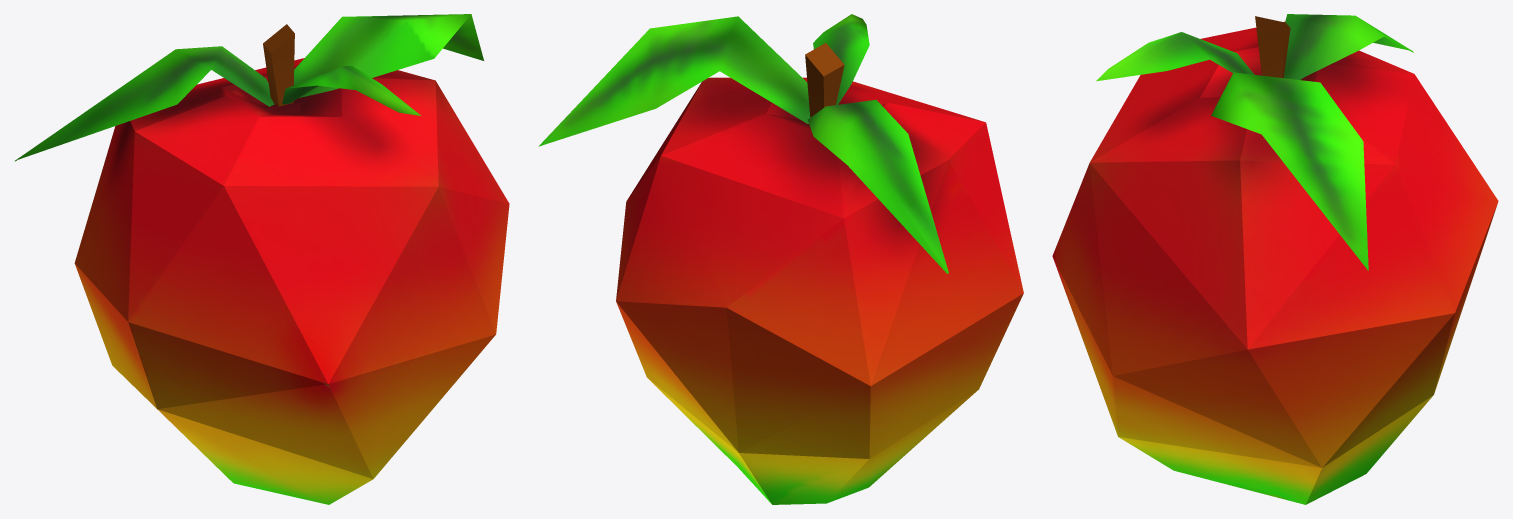
Rendered from cb_Wumpa.obj.
3 renders of one model, left to right at view 1: azimuth 30°, elevation 25°; view 2: azimuth 150°, elevation 25°; view 3: azimuth 270°, elevation 25°, orthographic. The views are drawn at different scales.
Parts seen in each view (by area): view 1: Plane.005_Fruit, Plane.005_Leaf, Plane.005_Brown; view 2: Plane.005_Fruit, Plane.005_Leaf, Plane.005_Brown; view 3: Plane.005_Fruit, Plane.005_Leaf, Plane.005_Brown.
Part boxes in pixels (box(x1,y1,x2,y2)): Plane.005_Fruit: box(74, 58, 509, 504); Plane.005_Leaf: box(15, 14, 483, 161); Plane.005_Brown: box(263, 24, 294, 106); Plane.005_Fruit: box(616, 77, 1023, 504); Plane.005_Leaf: box(538, 14, 948, 273); Plane.005_Brown: box(805, 43, 844, 117); Plane.005_Fruit: box(1052, 21, 1498, 504); Plane.005_Leaf: box(1096, 14, 1413, 270); Plane.005_Brown: box(1255, 16, 1290, 77).
Size of the model in its own units: 6.07 by 5.74 by 5.06.
